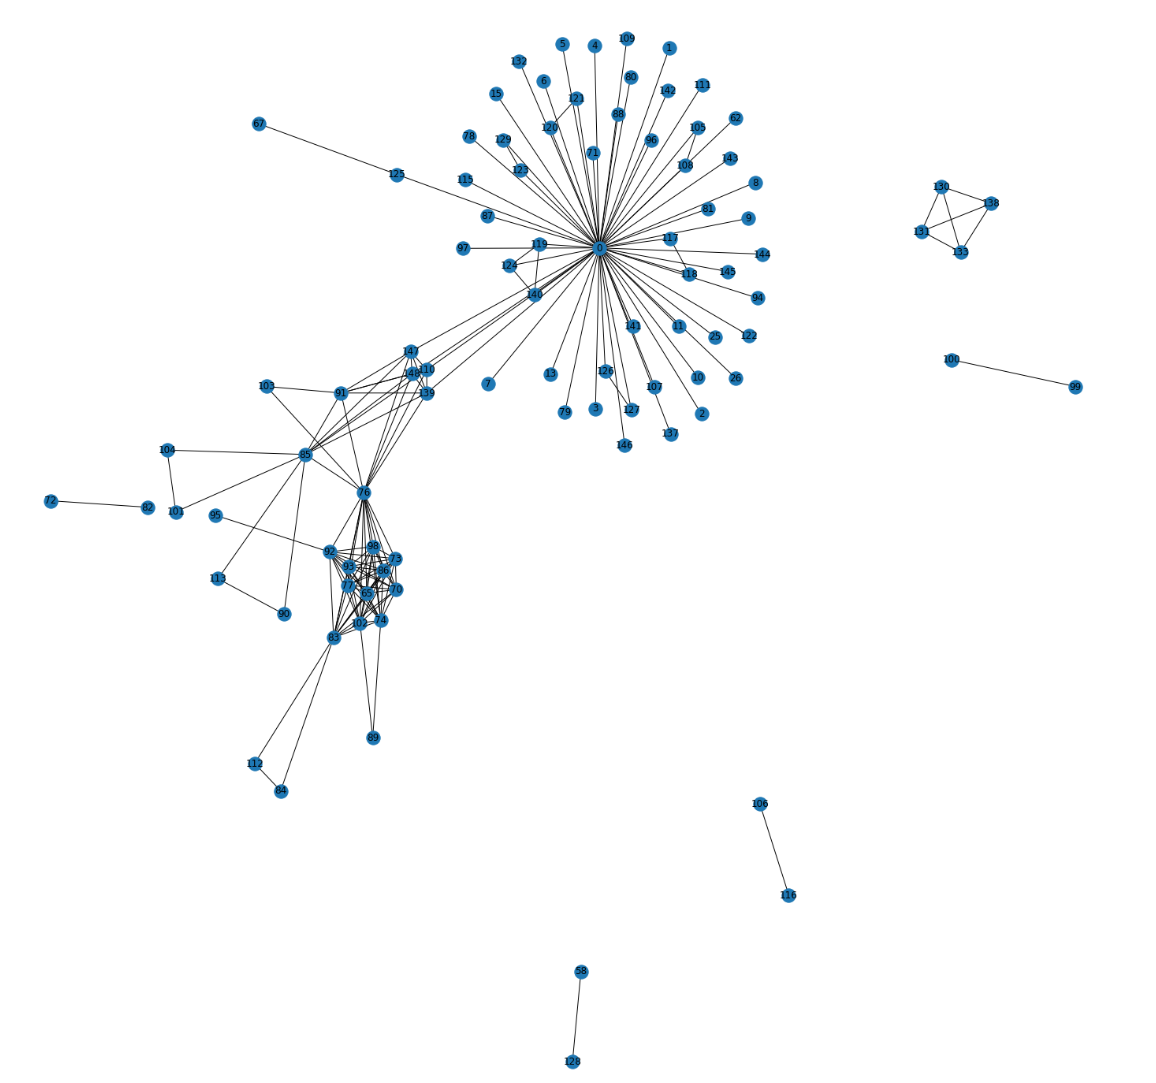

The page's visual inventory and layout, read from the dashboard file:
{"tool":"powerbi","page":{"name":"Page 1","canvas":[1280,720],"ordinal":0},"visuals":[{"type":"NetworkNavigator1550434005853","fields":{"SOURCE_NODE":["hkcase_relationship.Column1"],"TARGET_NODE":["hkcase_relationship.Column2"]},"box":[0,0,1280,720.3],"z":0}]}

Visuals, with their boxes on the page's 1280x720 design canvas (x1, y1, x2, y2). These are canvas units, not pixel positions in the 1156x1083 screenshot, which may show the page scaled, cropped or inside an application window:
NetworkNavigator1550434005853 - hkcase_relationship.Column1 x hkcase_relationship.Column2: <box>0,0,1280,720</box>
